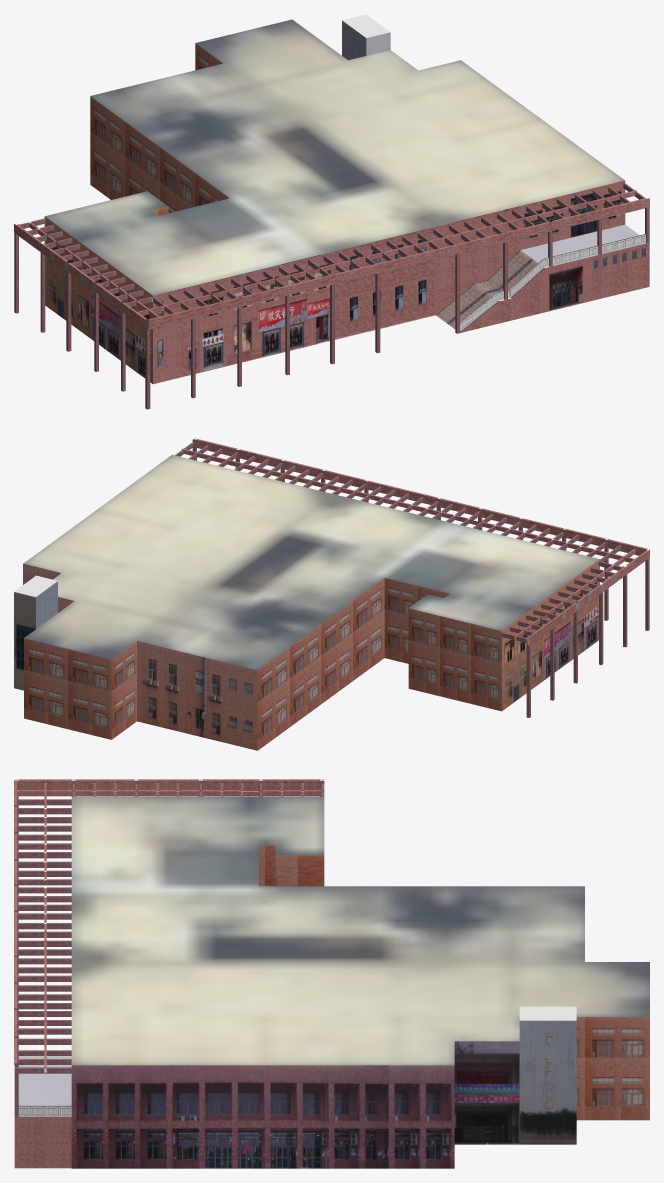
The picture shows the model from 3 angles, top to bottom: view 1: azimuth 30°, elevation 25°; view 2: azimuth 150°, elevation 25°; view 3: azimuth 270°, elevation 25°; orthographic projection. The views are drawn at different scales.
Visible parts, largest first — view 1: Mesh01#38; view 2: Mesh01#38; view 3: Mesh01#38.
Boxes of the visible parts, <box> form: Mesh01#38: <box>14,14,649,409</box>; Mesh01#38: <box>14,438,649,750</box>; Mesh01#38: <box>14,779,649,1168</box>.
Bounding box in the file's own units: 0.0831 × 0.0168 × 0.0781.
Materials: 5 (4 with a texture image).
